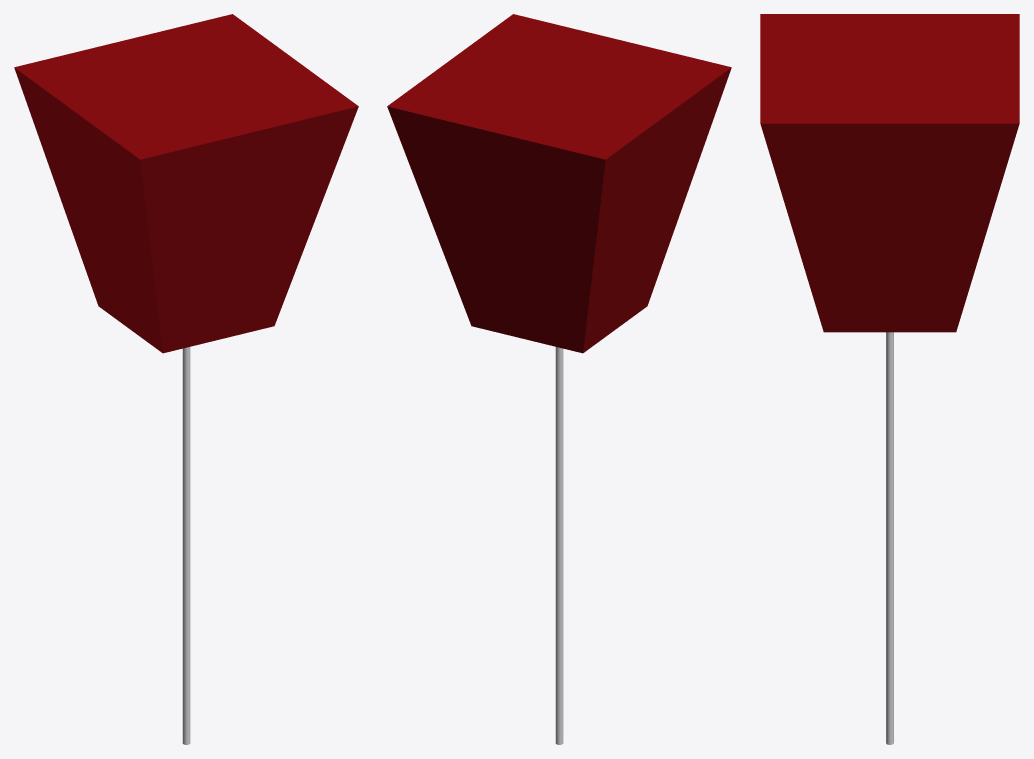
The model's file is Ballon.glb.
3 renders of one model, left to right at view 1: azimuth 30°, elevation 25°; view 2: azimuth 150°, elevation 25°; view 3: azimuth 270°, elevation 25°, orthographic. The views are drawn at different scales.
Parts seen in each view (by area): view 1: Cube, NurbsPath; view 2: Cube, NurbsPath; view 3: Cube, NurbsPath.
Boxes of the visible parts, bbox=[...] form: Cube: bbox=[14, 14, 358, 353]; NurbsPath: bbox=[182, 347, 190, 744]; Cube: bbox=[387, 14, 731, 353]; NurbsPath: bbox=[555, 347, 563, 744]; Cube: bbox=[760, 14, 1019, 332]; NurbsPath: bbox=[886, 332, 893, 744].
Bounding box in the file's own units: 2 × 5.74 × 2.
